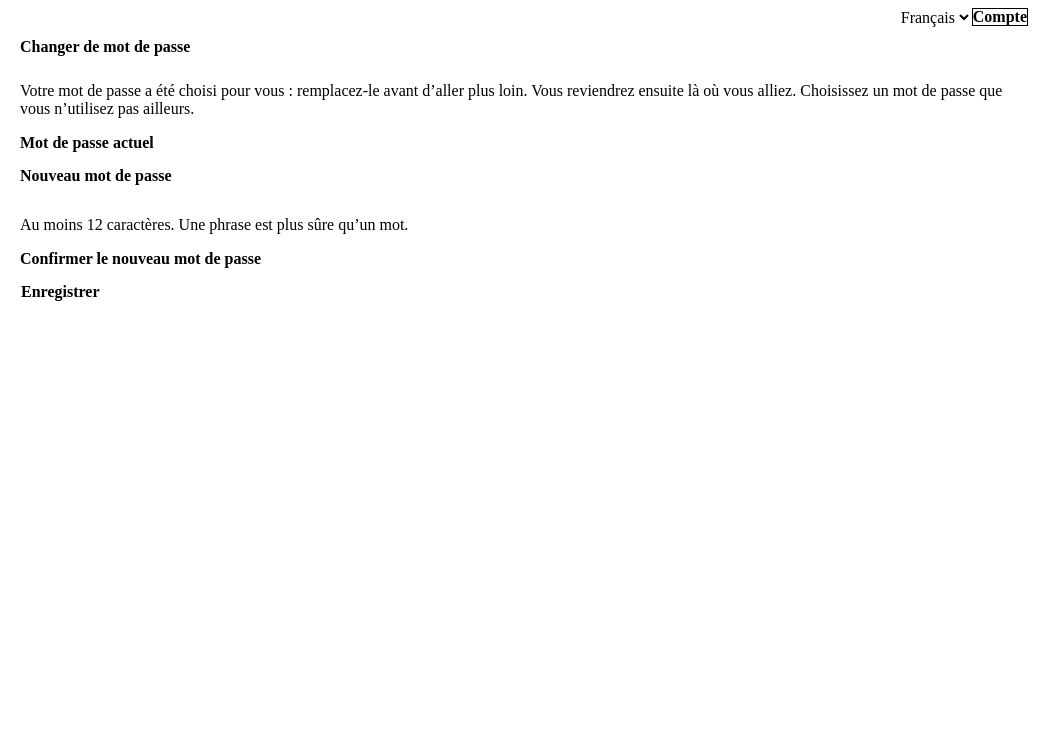
Test: what is asked again because the answer changed › lets a host through the gate once they have chosen their own password
Step 1. Type "le-mot-de-passe-recu" into the password field labelled "Mot de passe actuel" → {"x": 524, "y": 160}, box [20,152,1028,167]
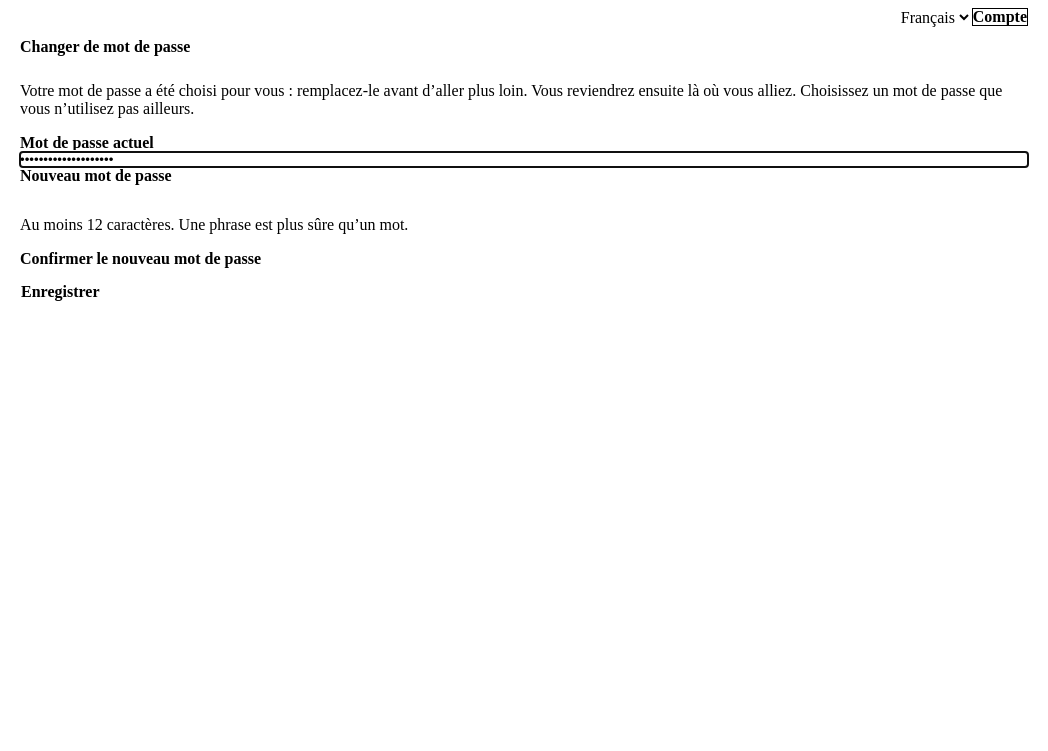
Step 2. Type "une-phrase-de-passe-solide" into the password field labelled "Nouveau mot de passe" → {"x": 524, "y": 193}, box [20,185,1028,200]
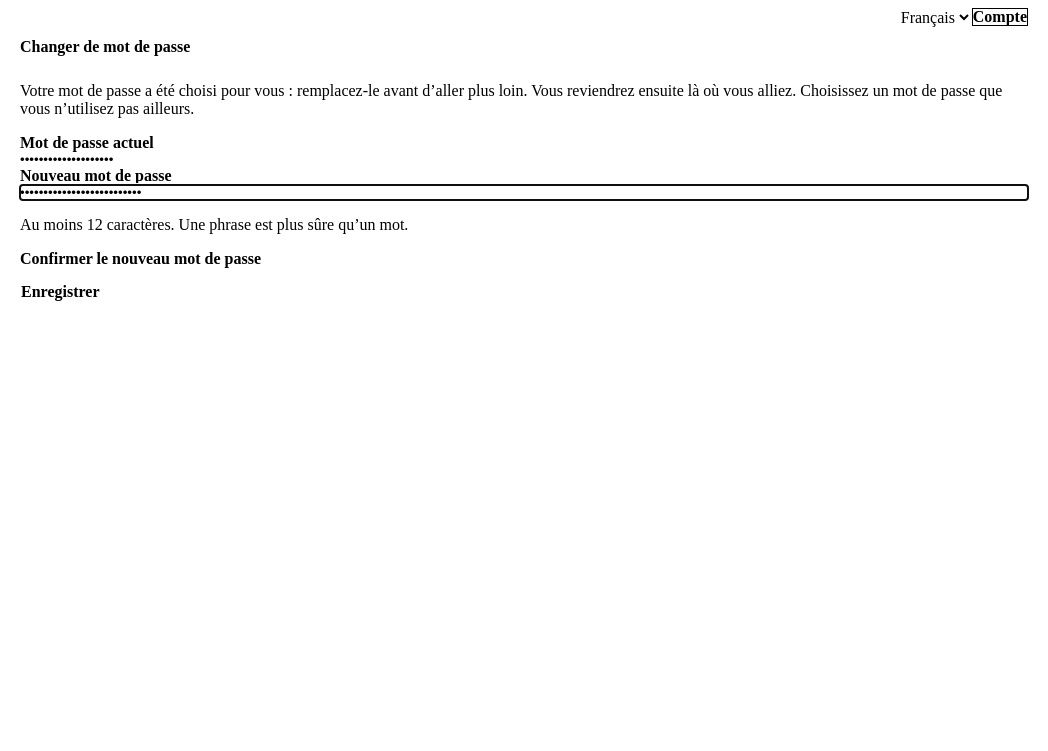
Step 3. Type "une-phrase-de-passe-solide" into the password field labelled "Confirmer le nouveau mot de passe" → {"x": 524, "y": 276}, box [20,268,1028,283]
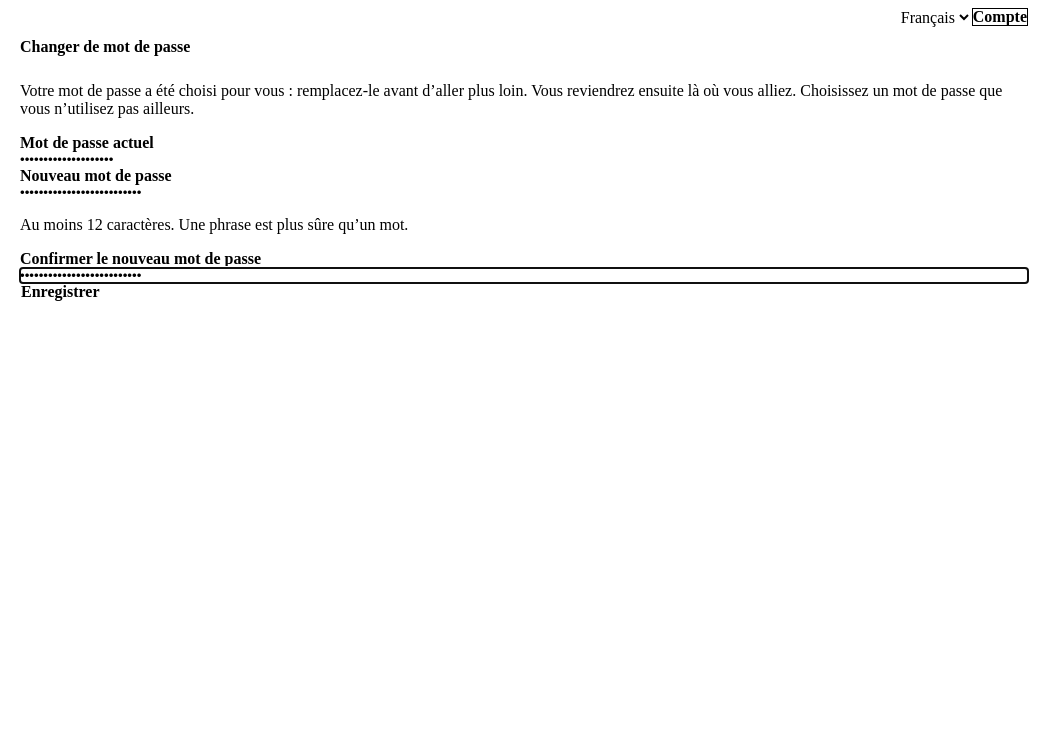
Step 4. Click the button "Enregistrer" → {"x": 60, "y": 292}, box [20,283,100,301]
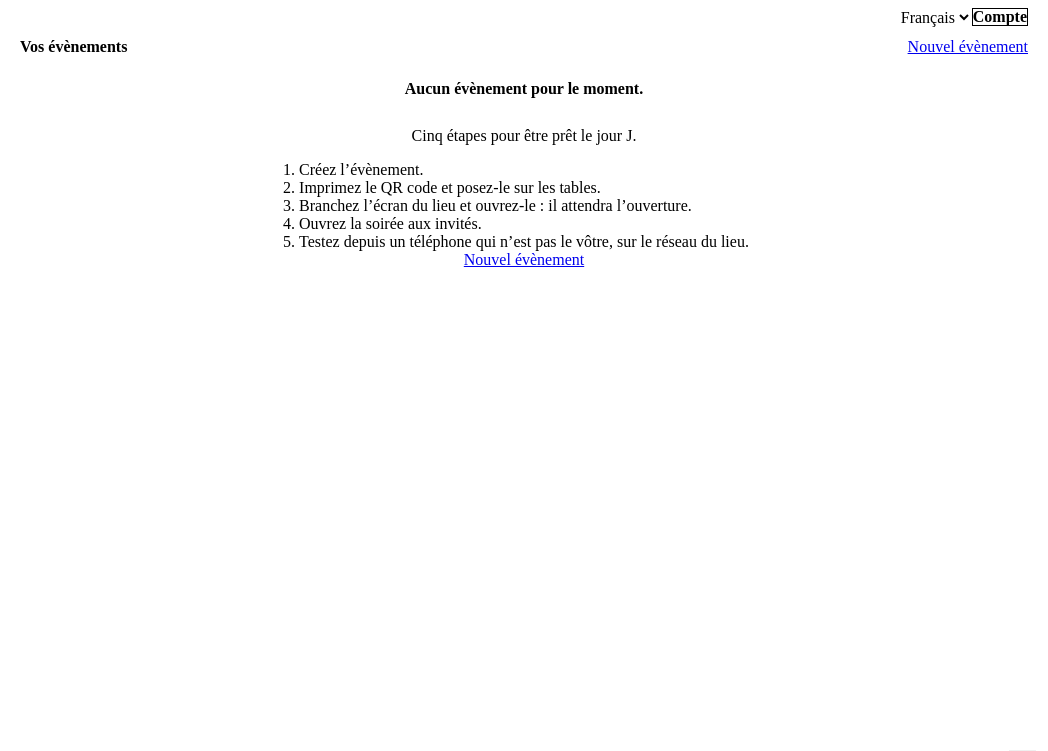
Expected: the heading "Vos évènements" is shown, [20,38,127,56]
